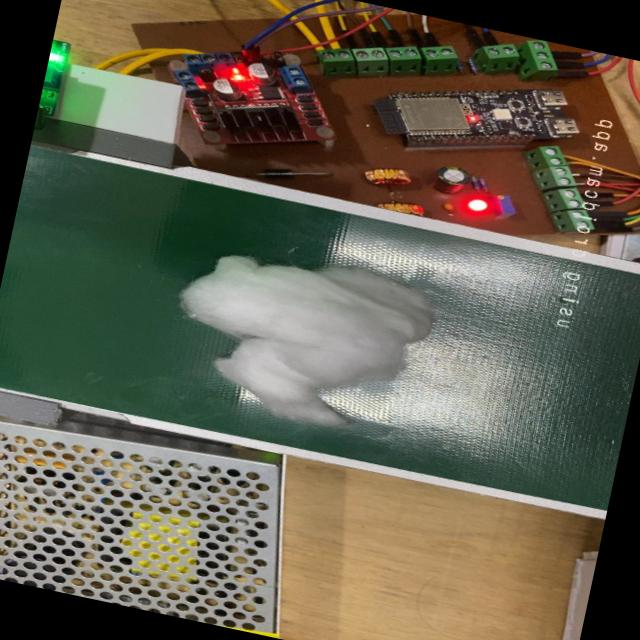cotton: (150, 227, 448, 453)
